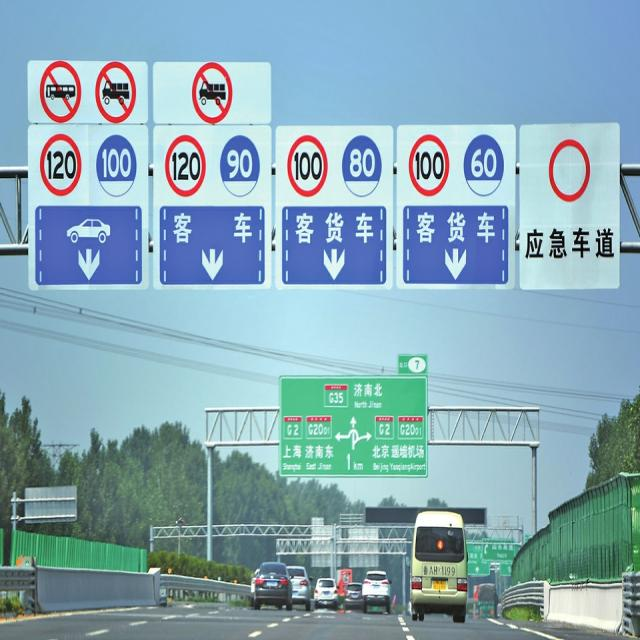speed limit 100: (94, 133, 137, 198), (409, 134, 450, 198), (287, 137, 329, 197)
speed limit 120: (39, 132, 81, 197), (165, 136, 206, 198)
speed limit 60: (463, 134, 505, 198)
speed limit 80: (340, 133, 382, 198)
speed limit 90: (220, 135, 260, 198)
